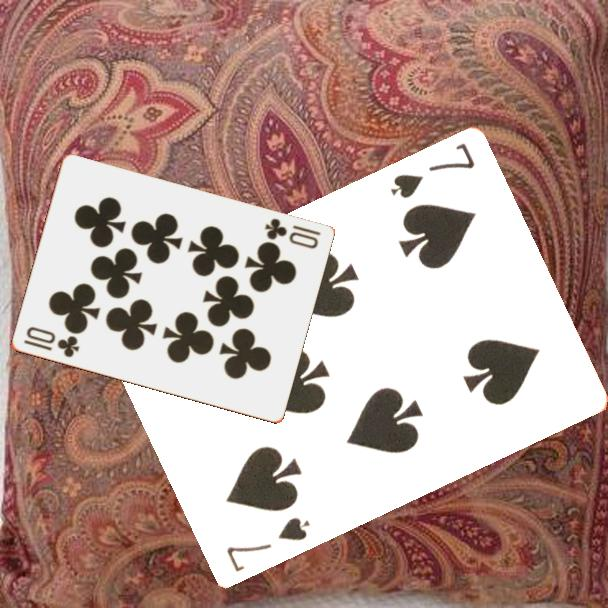c10: (20, 323, 82, 361), (261, 215, 323, 252)
s07: (386, 140, 478, 202), (222, 514, 313, 576)
